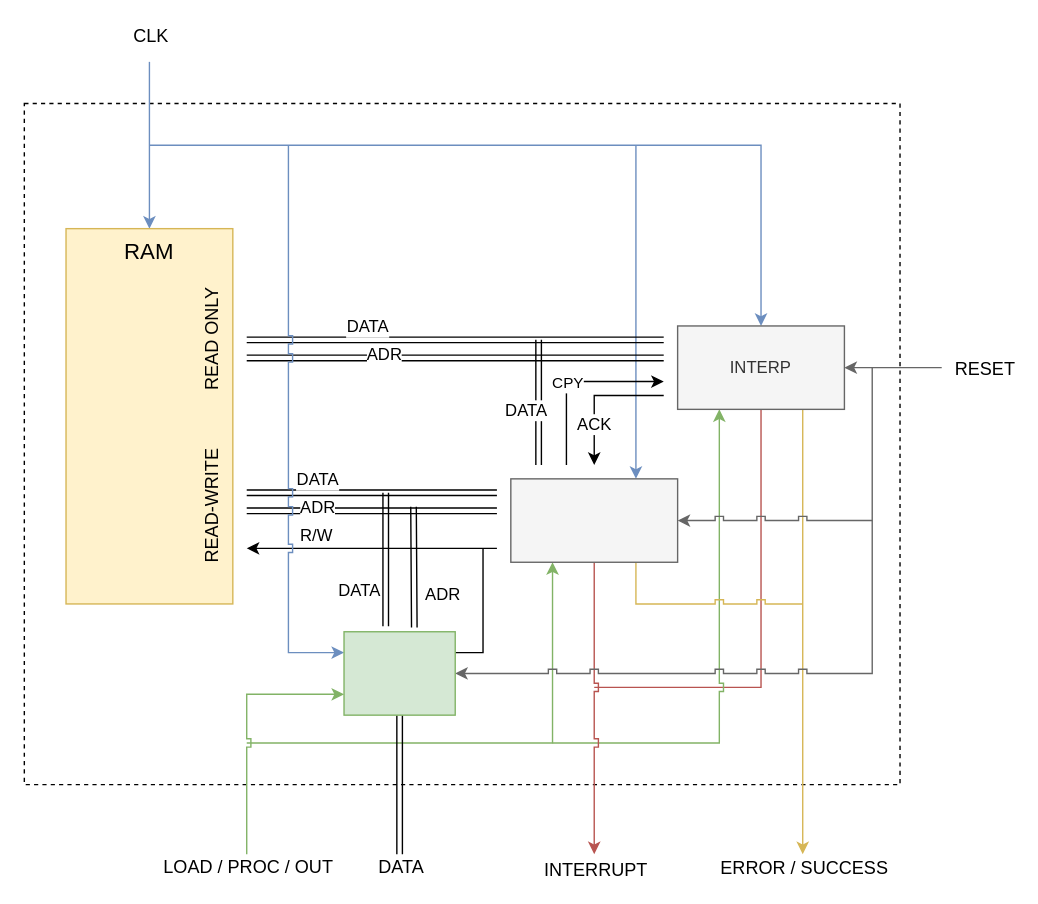
Some shapes in this 1038 by 904 pixel diagram are drawn without their labels. Here are the shapes that lost their labels. From the top down, the centre of each, then its label:
At point (593, 519): "SOLVER".
At point (399, 672): "IO".
